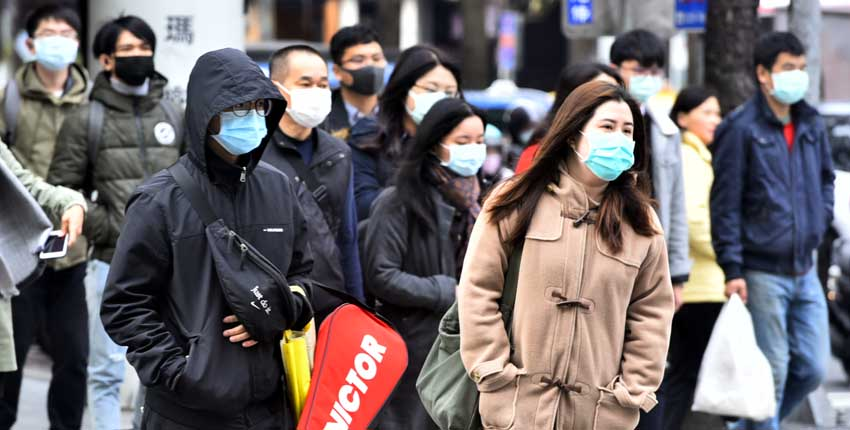mask: (211, 111, 269, 155), (586, 130, 635, 182), (282, 86, 336, 128), (107, 52, 161, 88), (340, 63, 387, 95), (445, 143, 483, 176)
